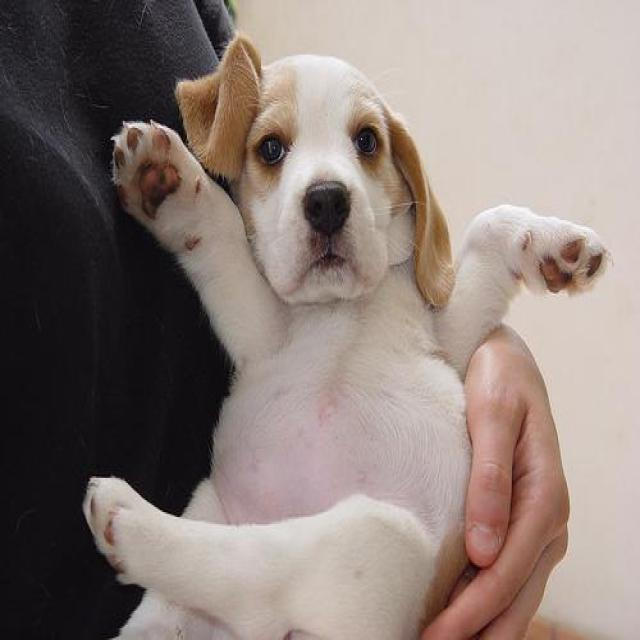beagle: (81, 34, 618, 638)
